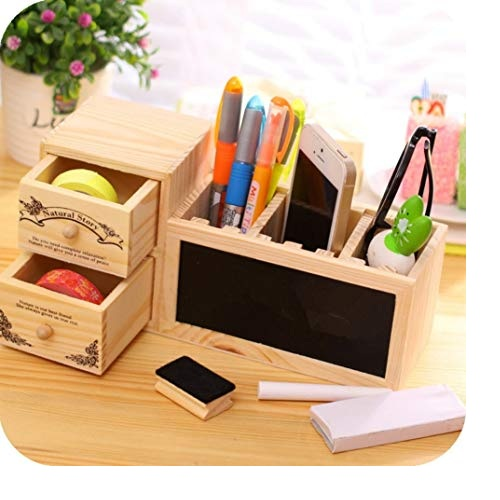Boligrafo: (206, 75, 242, 234), (253, 96, 293, 230), (236, 95, 253, 235)
